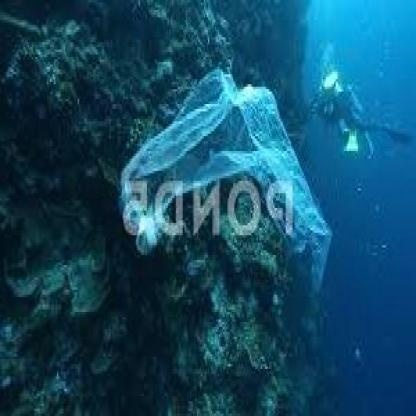pbag: (114, 62, 333, 300)
